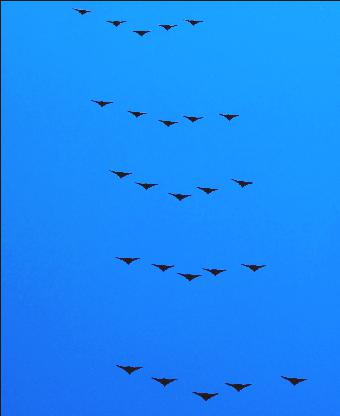E7: (190, 391, 217, 401), (150, 377, 177, 387), (115, 364, 142, 374), (280, 376, 306, 386), (224, 382, 250, 392), (230, 178, 254, 188), (176, 272, 200, 282), (150, 262, 174, 272), (240, 264, 266, 272), (115, 256, 140, 264), (167, 192, 191, 200), (133, 182, 157, 190), (108, 170, 132, 178), (202, 268, 226, 276), (195, 186, 218, 194), (217, 113, 239, 121), (156, 119, 178, 127), (125, 110, 147, 118), (181, 115, 203, 122), (90, 100, 112, 107), (71, 7, 91, 14), (104, 20, 126, 26), (182, 19, 202, 25), (156, 24, 176, 30), (130, 30, 150, 36)
